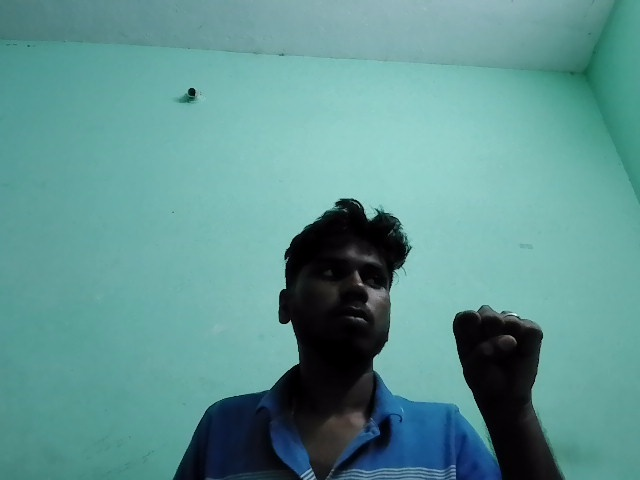Yes: (435, 290, 600, 414)
